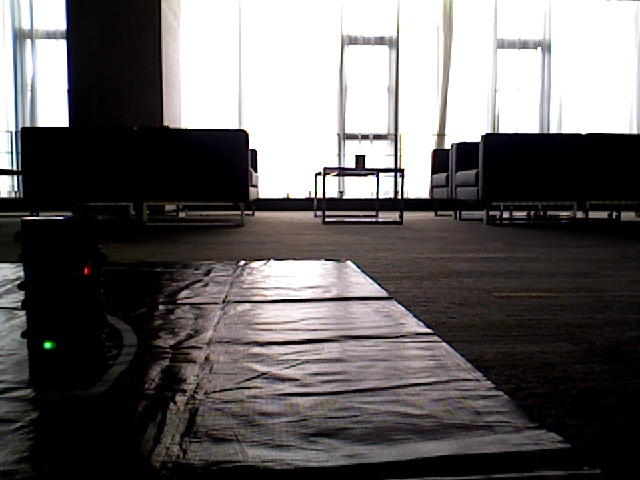green: (29, 248, 76, 370)
